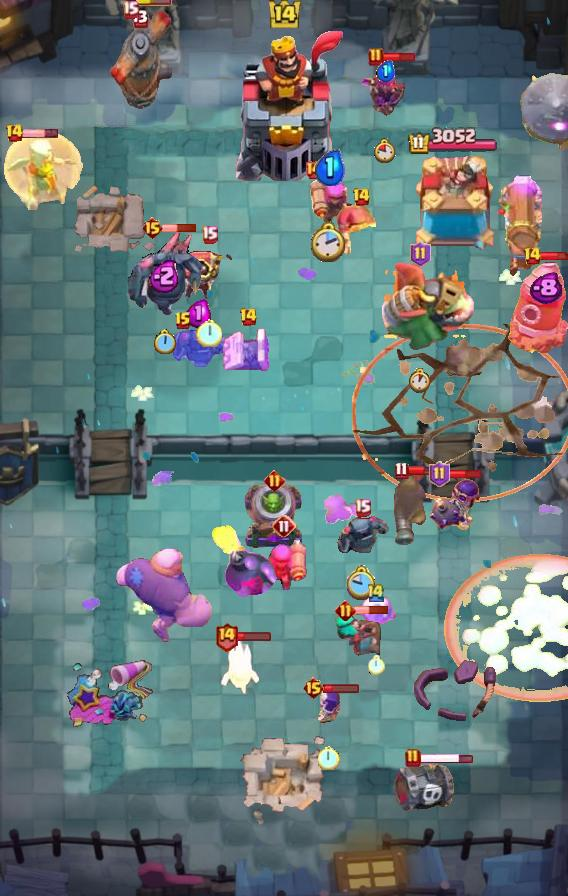baby-dragon: (206, 523, 278, 597)
balloon: (113, 546, 215, 646)
bat: (221, 637, 261, 695)
battle-healer: (497, 175, 543, 279)
battle-ram: (168, 324, 228, 370), (334, 512, 390, 558)
bomb-tower: (392, 469, 430, 547)
bomber-evolution: (181, 246, 237, 302)
bowler: (336, 198, 386, 254)
dark-prince: (102, 0, 180, 112)
electro-spirit: (315, 149, 345, 187), (149, 259, 181, 294), (530, 272, 563, 305), (186, 299, 211, 328), (376, 60, 395, 82)
elixir: (311, 220, 347, 263), (347, 565, 377, 600), (196, 318, 222, 347), (155, 328, 178, 355), (408, 367, 432, 392), (374, 138, 396, 163), (318, 745, 340, 770), (367, 655, 385, 675)
emote: (418, 751, 473, 764), (382, 51, 417, 63), (449, 468, 484, 480), (22, 129, 59, 140), (324, 682, 361, 693), (406, 465, 442, 476), (236, 630, 272, 641), (162, 223, 197, 233), (355, 605, 390, 615), (540, 251, 568, 261), (136, 0, 172, 6)
evolution-symbol: (362, 59, 408, 119)
goblin: (316, 687, 342, 723)
goblin-ball: (427, 477, 481, 533)
goblin-brawler: (222, 324, 274, 374)
goblin-cage: (242, 481, 306, 551)
golemite: (128, 230, 202, 318)
guard: (352, 325, 568, 504)
king-tower: (223, 31, 345, 181)
magic-archer: (508, 260, 568, 354)
mirror: (351, 594, 401, 632)
night-witch: (364, 259, 476, 355)
phoenix-big: (444, 553, 568, 704)
poison: (0, 129, 84, 221)
queen-tower: (407, 156, 499, 256)
royal-recruit-evolution: (393, 758, 455, 814)
selected: (407, 127, 499, 156)
text: (213, 620, 238, 651), (272, 514, 296, 538), (141, 216, 164, 240), (303, 676, 326, 700), (410, 241, 431, 267), (430, 461, 451, 487), (335, 600, 357, 621), (263, 469, 284, 490), (366, 581, 386, 602), (4, 123, 24, 143), (304, 160, 324, 180), (352, 187, 372, 207), (523, 246, 542, 266), (239, 307, 258, 327), (174, 311, 192, 331), (353, 498, 371, 517), (121, 1, 138, 20), (201, 225, 218, 244), (368, 47, 384, 67), (405, 748, 421, 768), (395, 461, 410, 480)
tombstone: (260, 540, 308, 590), (308, 175, 352, 225)
witch: (333, 611, 381, 659)
x-bow: (514, 72, 568, 152)
